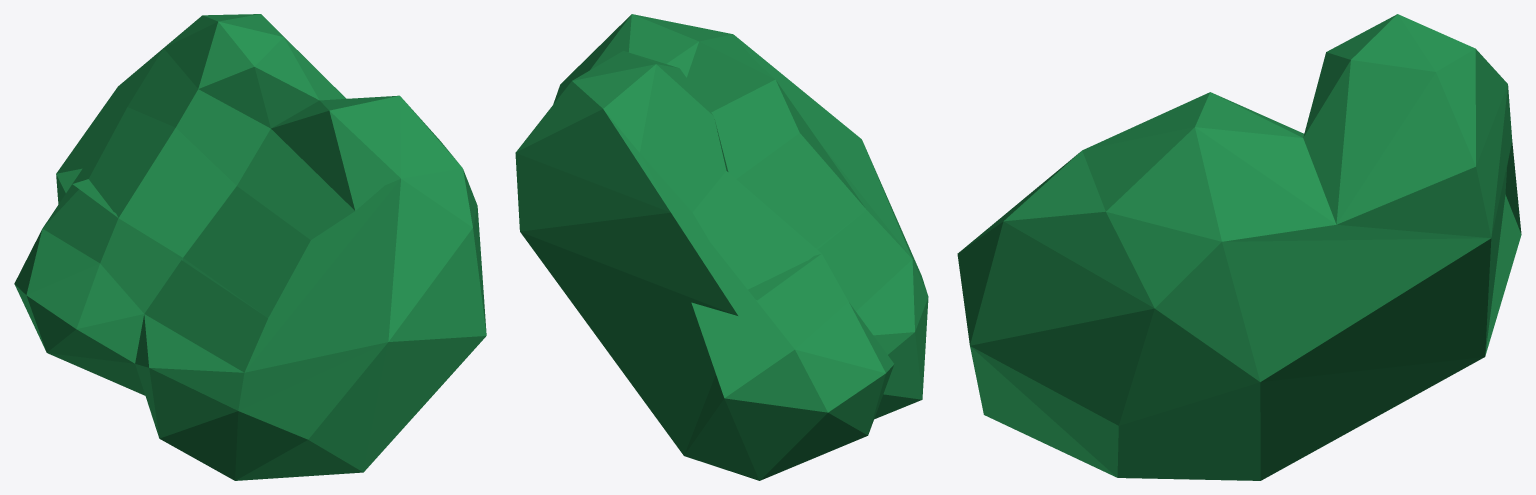
Rendered from Moss.fbx.
The picture shows the model from 3 angles, left to right: view 1: azimuth 30°, elevation 25°; view 2: azimuth 150°, elevation 25°; view 3: azimuth 270°, elevation 25°; orthographic projection. The views are drawn at different scales.
Visible parts, largest first — view 1: Moss.047; view 2: Moss.047; view 3: Moss.047.
Part boxes in pixels (x1,y1,x2,y2): Moss.047: (14,14,486,480); Moss.047: (515,14,928,480); Moss.047: (957,14,1521,480).
Size of the model in its own units: 49.54 by 53.42 by 49.37.
